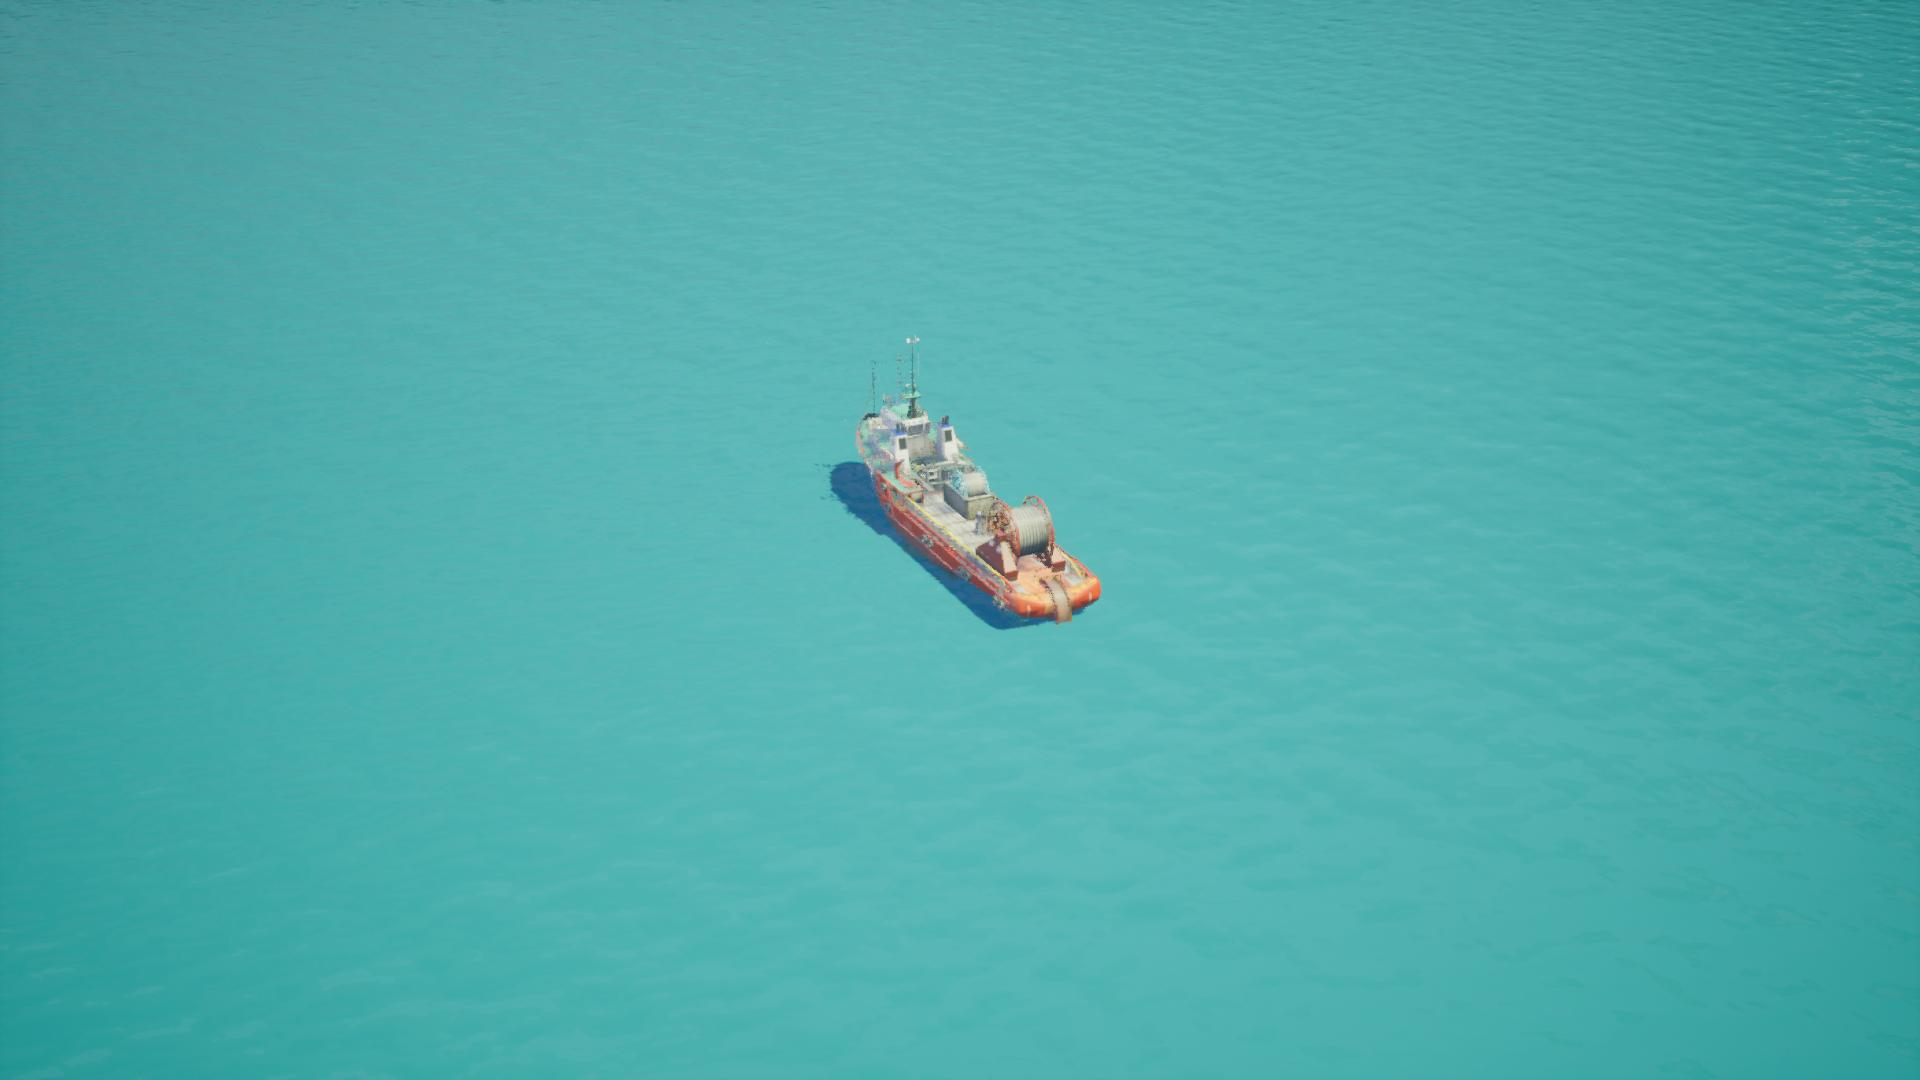Tug Boat: (824, 331, 1058, 630)
